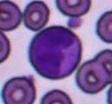M: (28, 25, 82, 79)
